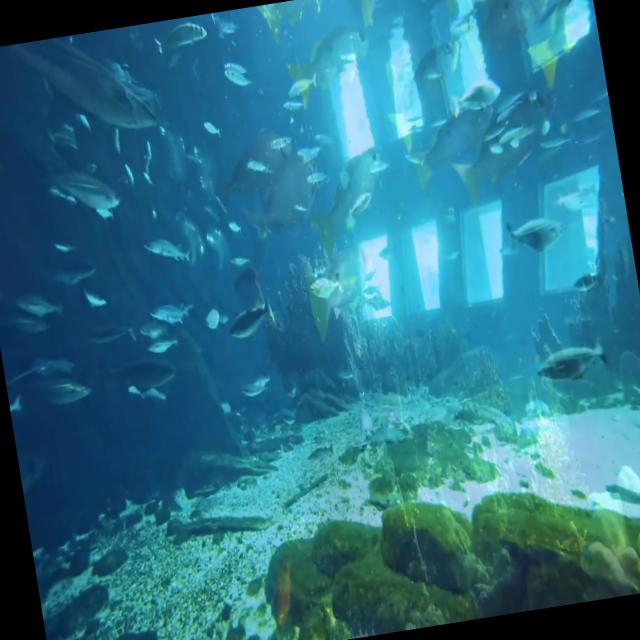fish: (534, 339, 614, 385), (222, 296, 276, 343)
